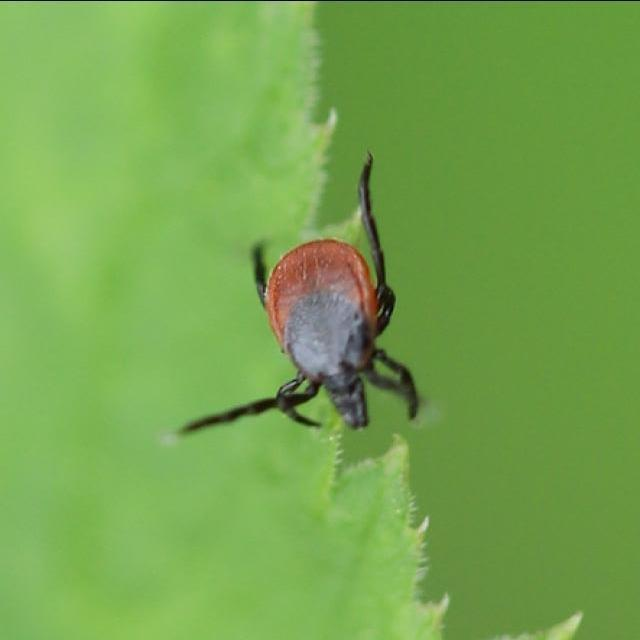Ixodes Ricinus-F: (160, 152, 423, 443)
